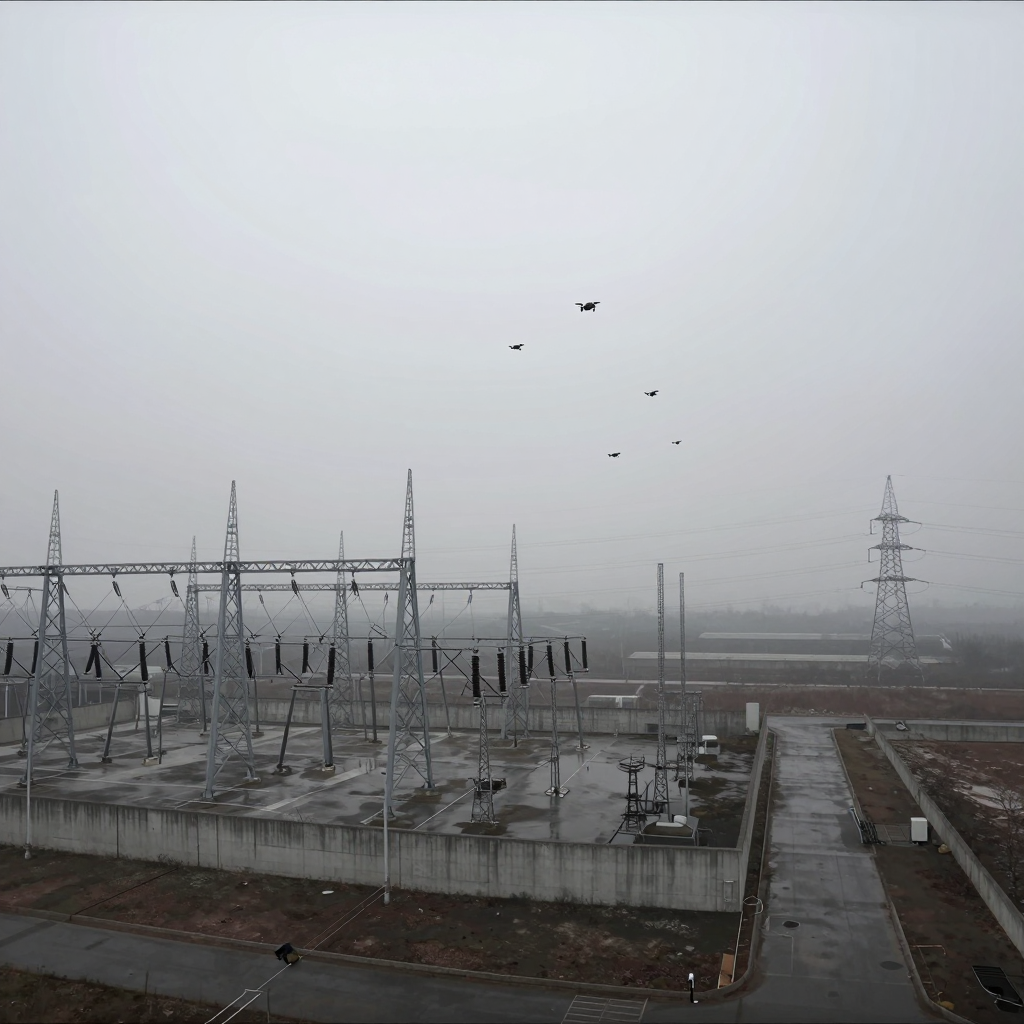drone: (575, 302, 601, 312), (644, 390, 659, 397), (512, 345, 524, 351), (607, 453, 621, 458), (671, 441, 682, 445)
